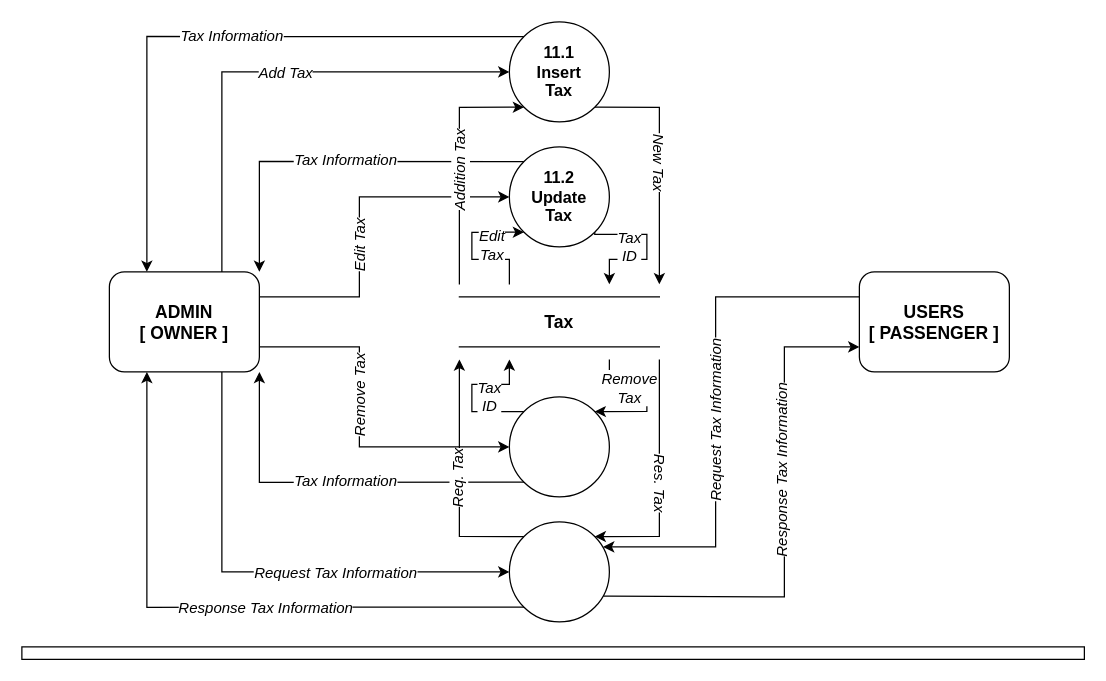
Image size: 1106x681. Some labels were removed from this diagram. Each missing label, with the centre of its shape:
"11.3 Delete Tax" goes at point (558, 446).
"11.4 View Tax" goes at point (558, 571).
